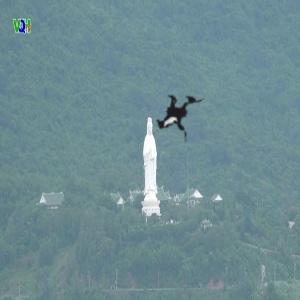drone: (124, 59, 228, 163)
